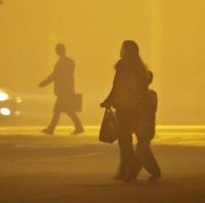person: (98, 35, 146, 183), (34, 40, 89, 137), (133, 68, 164, 183)
